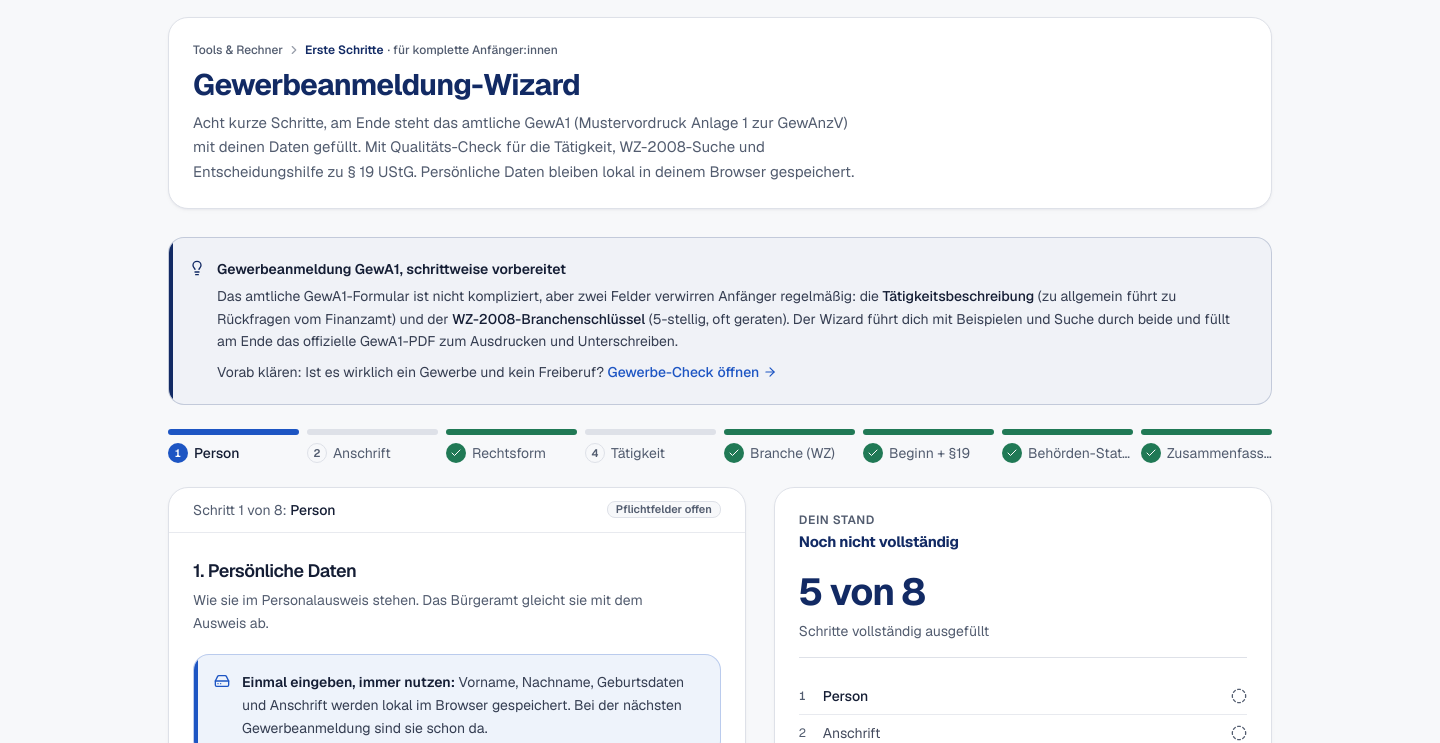
Test: GewerbeanmeldungWizard — Steps › Step 5: WZ-Auswahl per Klick speichert Code
Click the button "Branche (WZ)".
click(790, 446)  # box [724,429,855,463]
(page scrolled)
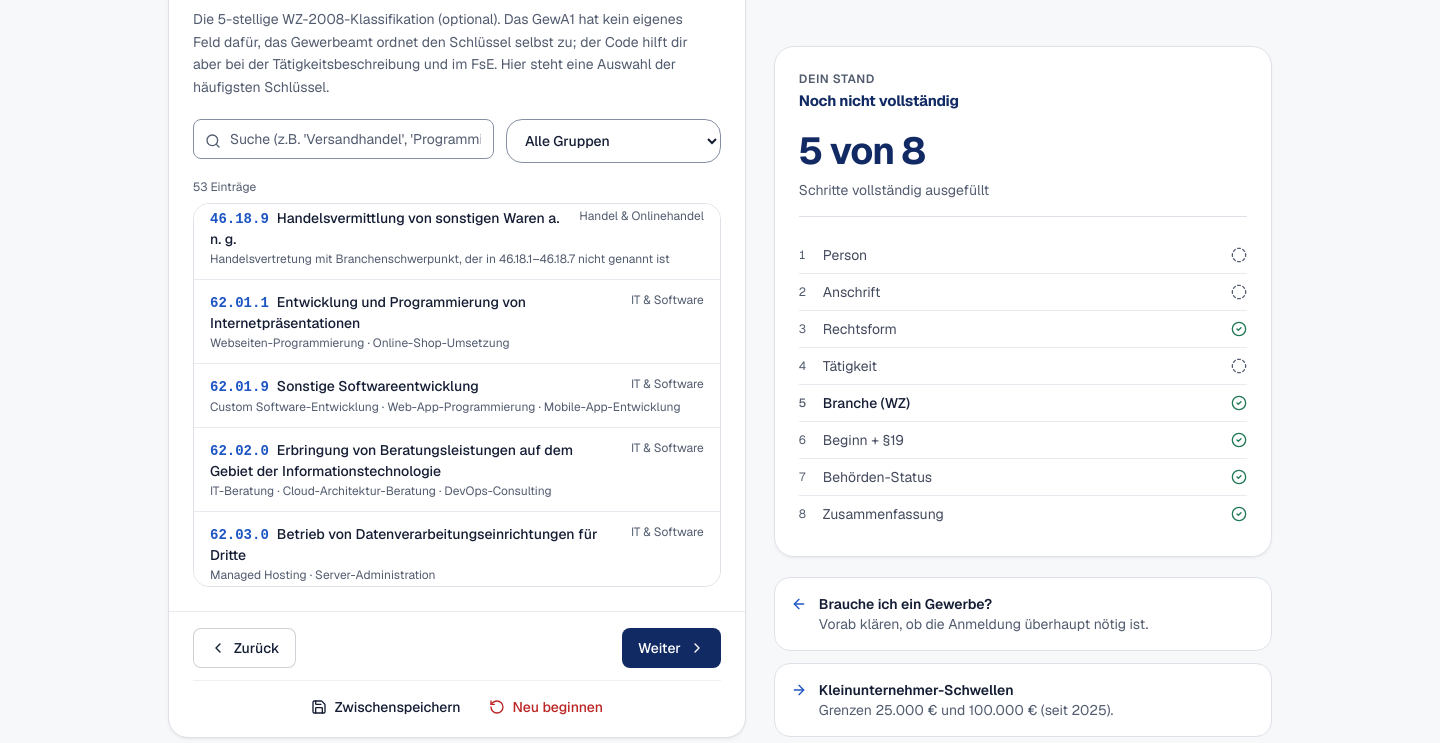
Check: the button that starts with "Sonstige Softwareentwicklung" is shown
Click the button that starts with "Sonstige Softwareentwicklung".
click(457, 395)  # box [194,363,720,427]
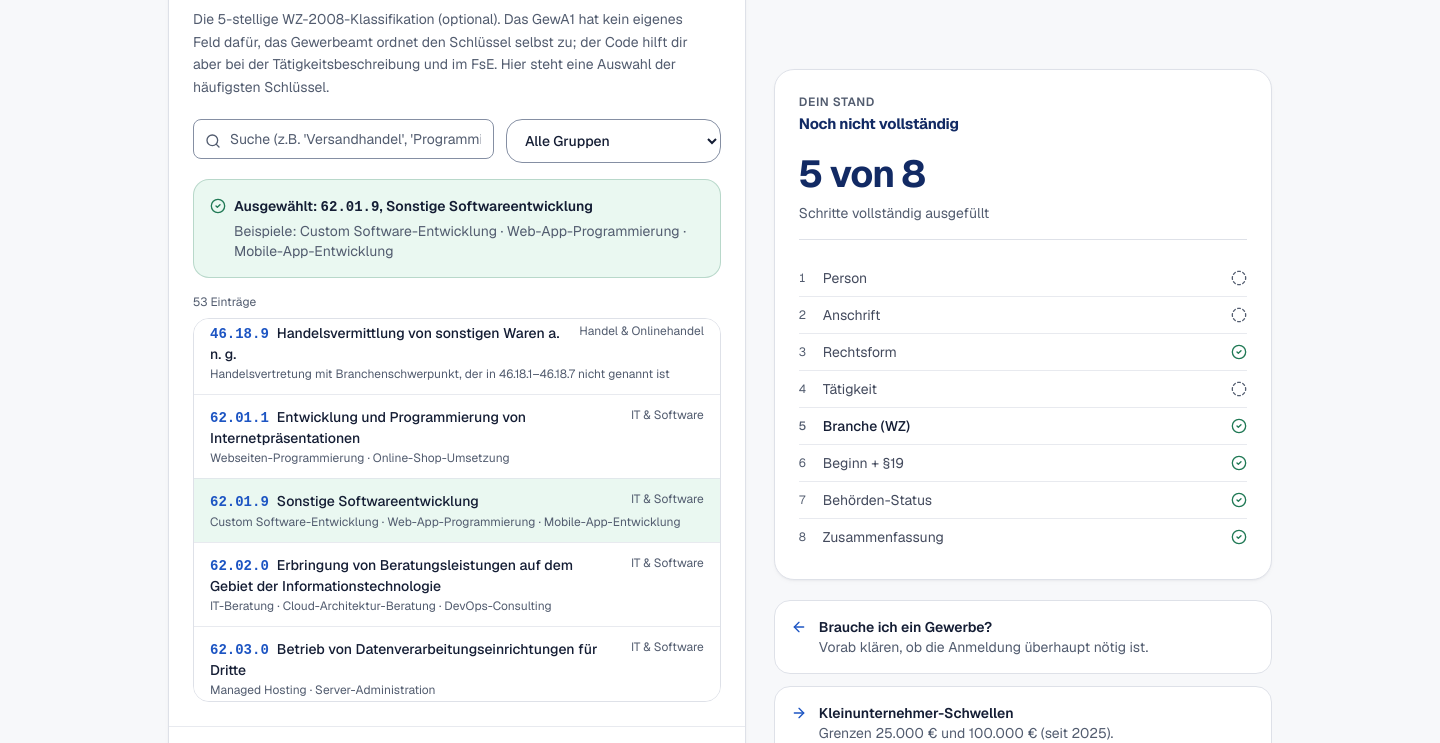
Check: the text "Ausgewählt: 62.01.9, Sonstige Softwareentwicklung" is shown, box [234,196,593,217]
